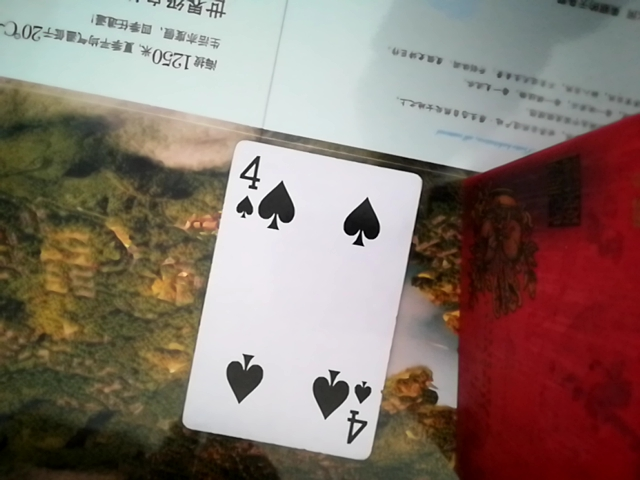ht 4: (181, 145, 429, 464)
